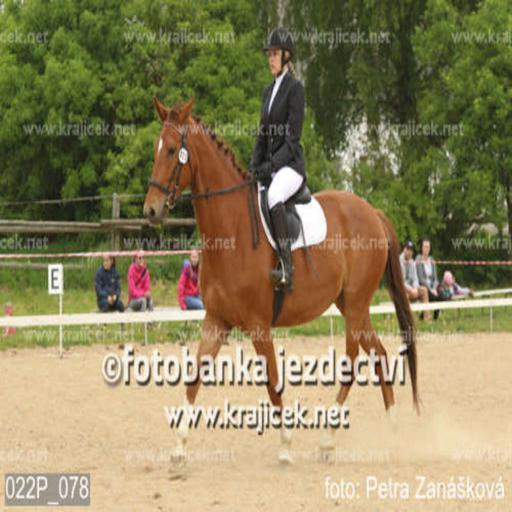horse: (142, 98, 422, 483)
